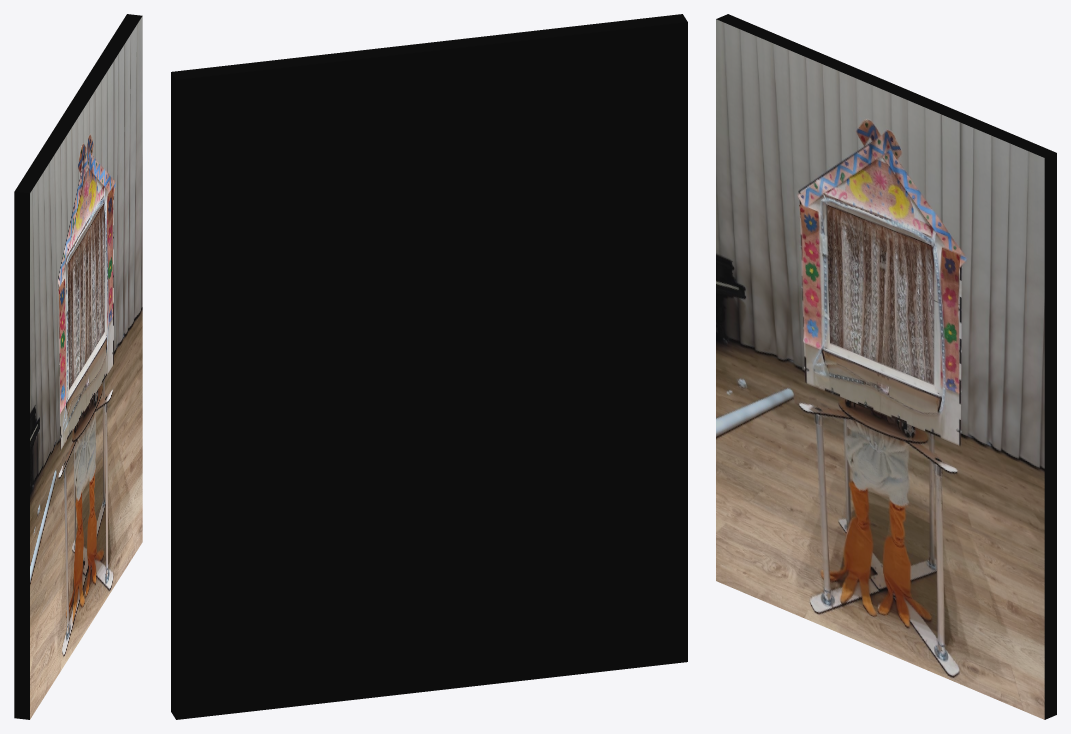
File: izbushka_photo_ar.glb
3 views of the same model, side by side, from view 1: azimuth 30°, elevation 25°; view 2: azimuth 150°, elevation 25°; view 3: azimuth 270°, elevation 25° (orthographic). The views are drawn at different scales.
Visible parts, largest first — view 1: BabaYagaPhoto; view 2: BabaYagaPhoto; view 3: BabaYagaPhoto.
Boxes of the visible parts, left/top/right/bottom form: BabaYagaPhoto: left=14, top=14, right=142, bottom=719; BabaYagaPhoto: left=171, top=14, right=687, bottom=719; BabaYagaPhoto: left=716, top=14, right=1056, bottom=719.
Bounding box in the file's own units: 0.9899 × 1.8 × 0.9899.
2 materials, 1 textured.
